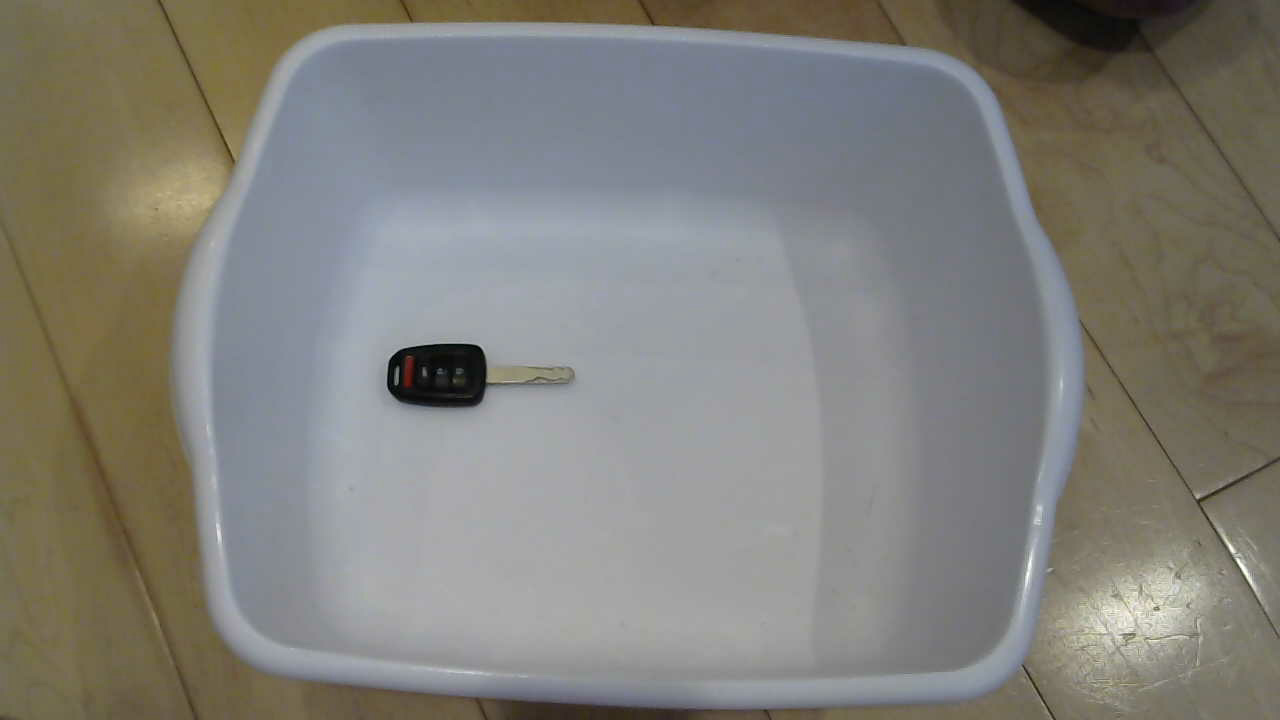key: (364, 332, 590, 428)
